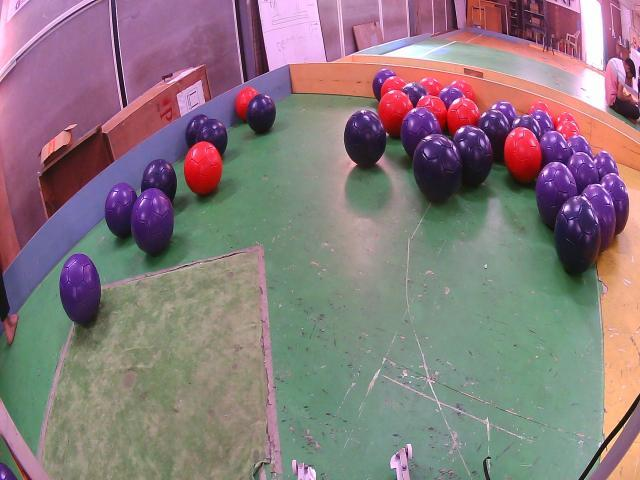jambhalya: (130, 188, 174, 255), (60, 253, 101, 323), (536, 162, 578, 228), (581, 183, 616, 251), (401, 107, 441, 158), (105, 183, 138, 237), (600, 173, 629, 234), (568, 152, 599, 194), (539, 130, 572, 166), (372, 68, 394, 102), (491, 100, 518, 127), (594, 152, 619, 179), (531, 110, 555, 134), (439, 85, 464, 108), (568, 135, 592, 158), (0, 462, 18, 480)
kaalyya: (554, 197, 601, 273), (412, 133, 462, 202), (344, 108, 386, 167), (454, 125, 492, 187), (479, 108, 511, 159), (141, 158, 176, 202), (195, 118, 228, 157), (246, 93, 276, 133), (185, 113, 209, 148), (512, 115, 541, 140), (402, 82, 429, 107)
